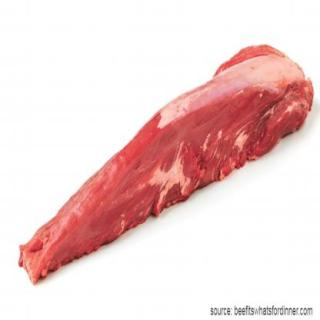Daging Sapi: (19, 42, 316, 281)
